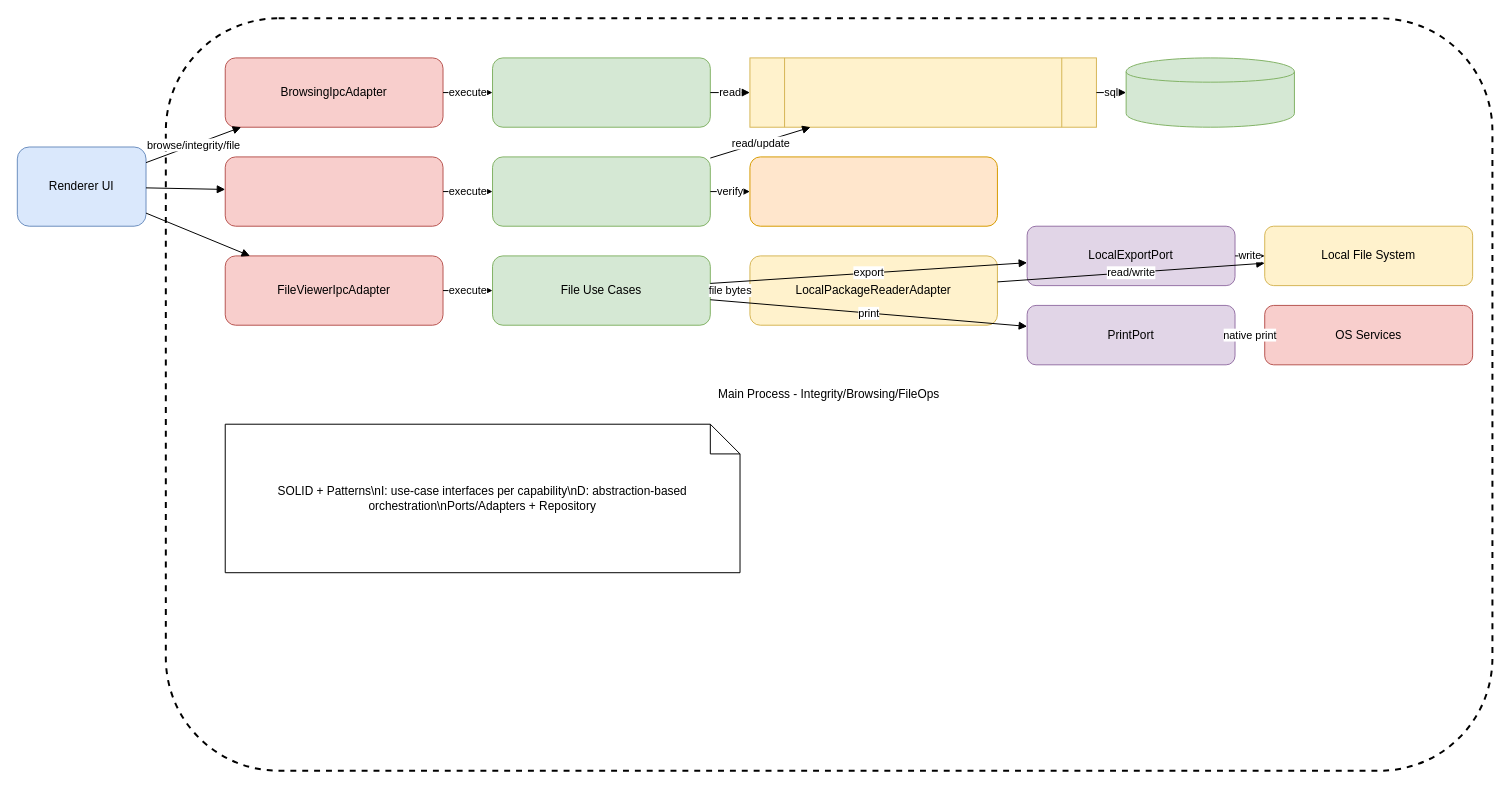
Image size: 1511x788. Some labels were removed from this diagram. Each missing label, with the centre of its shape:
Browsing Use Cases: the point at 601,92
CheckIntegrityIpcAdapter: the point at 333,191
Dip/Class/Process/Document/File Repositories: the point at 922,92
Integrity Use Cases: the point at 601,191
IntegrityVerificationService: the point at 873,191
SQLite: the point at 1209,92
